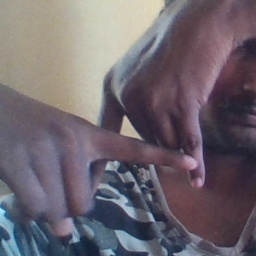H: (67, 70, 218, 206)
